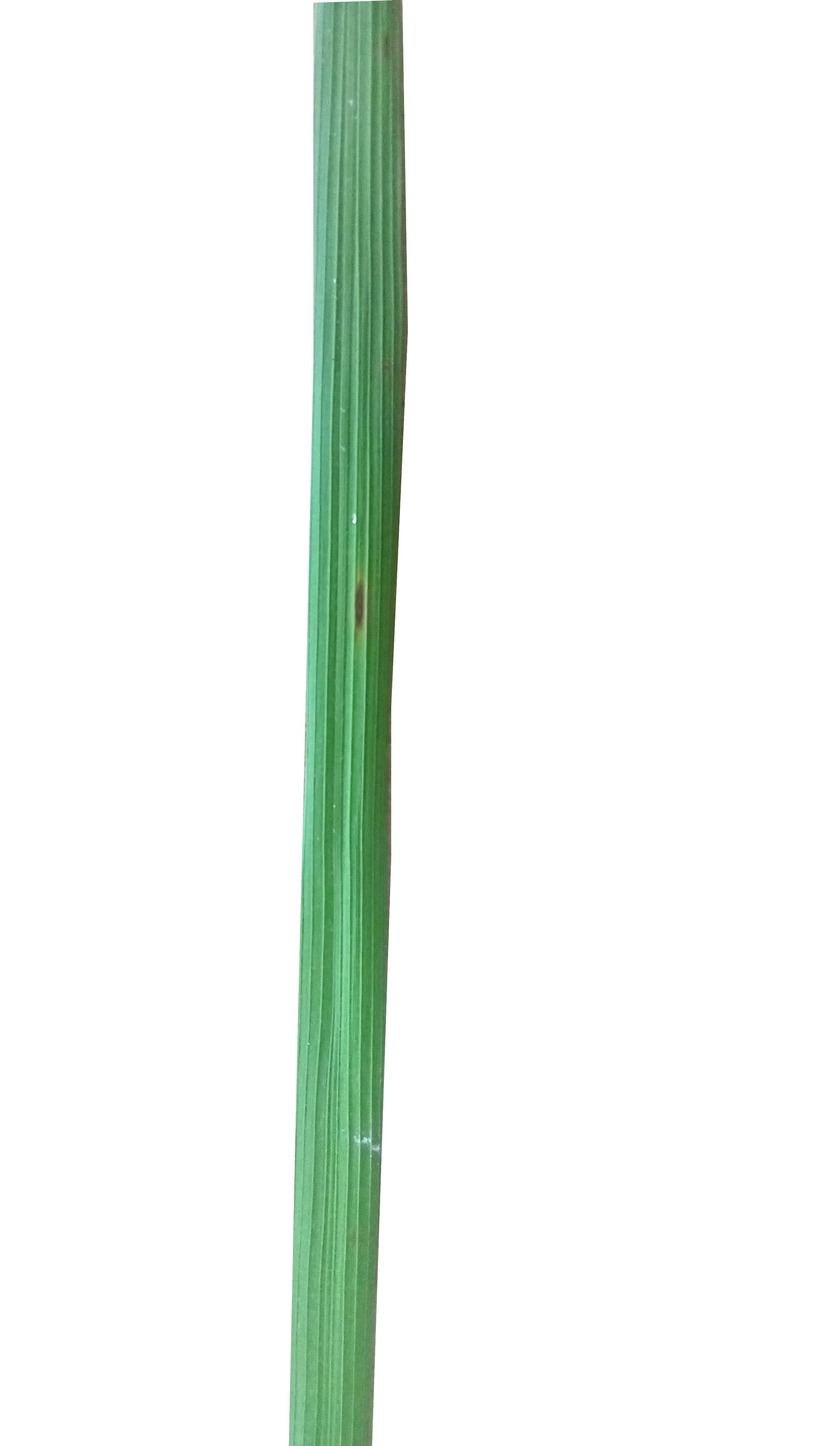Brown spot: (339, 553, 377, 653)
